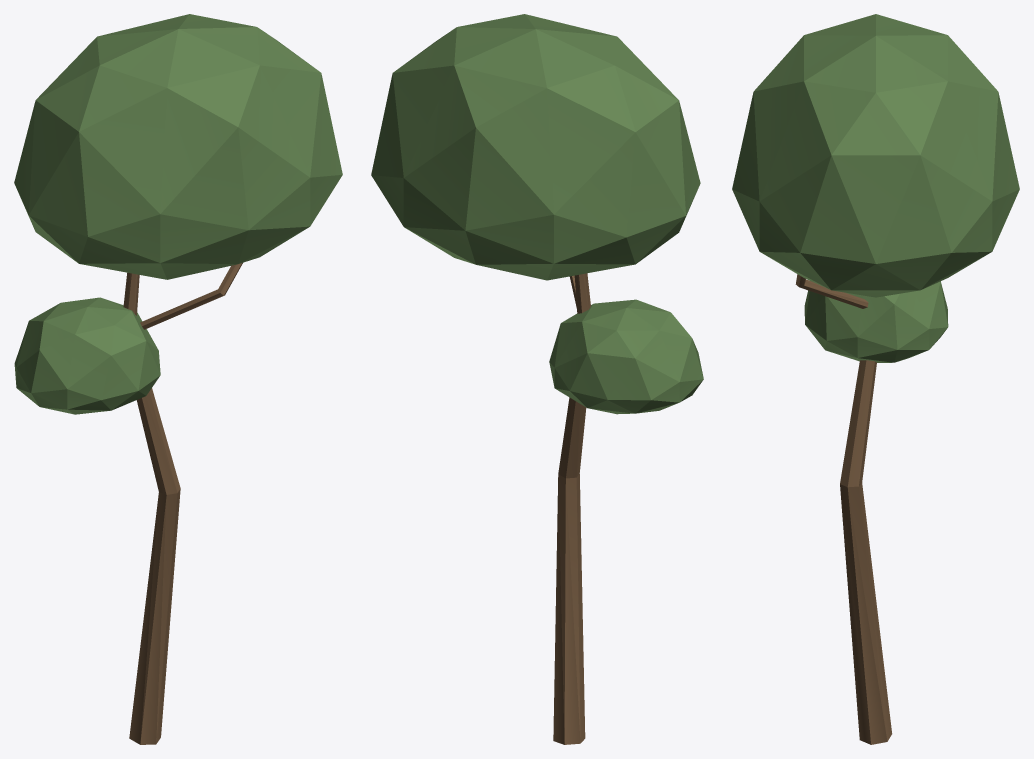
The model's file is tree_green_4.glb.
3 renders of one model, left to right at view 1: azimuth 30°, elevation 25°; view 2: azimuth 150°, elevation 25°; view 3: azimuth 270°, elevation 25°, orthographic. The views are drawn at different scales.
Visible parts, largest first — view 1: Tree Yellow 4.198; view 2: Tree Yellow 4.198; view 3: Tree Yellow 4.198.
Boxes of the visible parts, x1,y1,x2,y2 form: Tree Yellow 4.198: [14, 14, 342, 744]; Tree Yellow 4.198: [371, 14, 703, 744]; Tree Yellow 4.198: [732, 14, 1019, 744].
Bounding box in the file's own units: 0.172 × 0.3755 × 0.1362.
